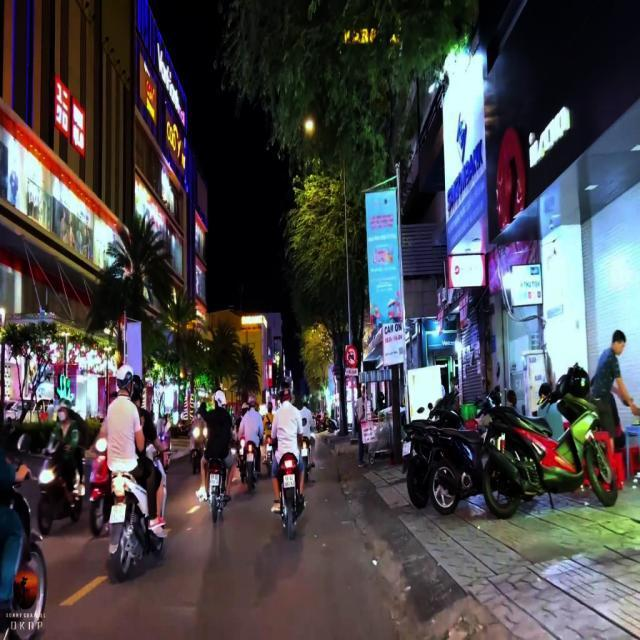103a-cam-oto: (346, 345, 358, 367)
